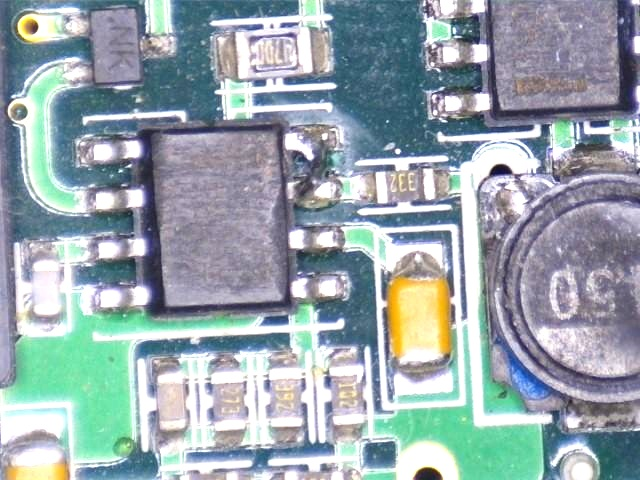pcb_defect: (284, 125, 342, 208)
